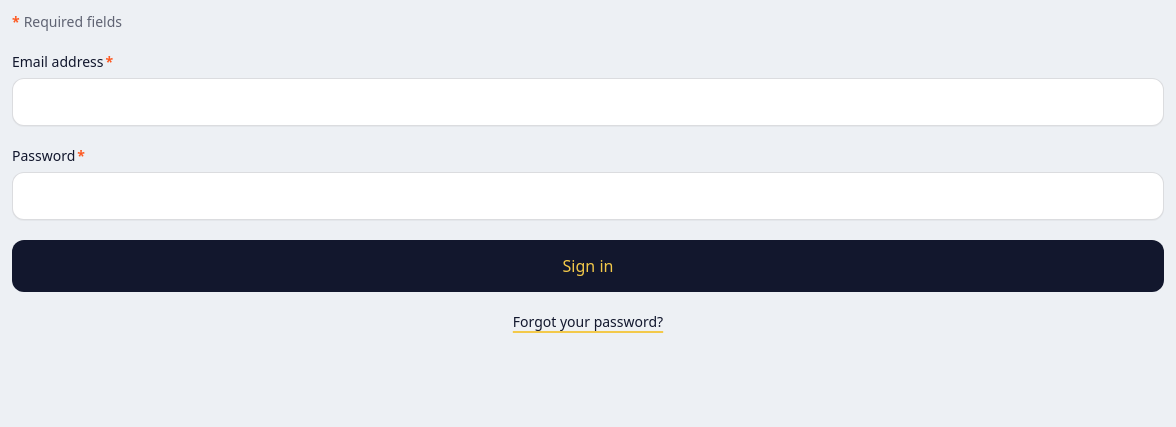
Test: sign in › shows the sign-in failure as a toast and keeps the email
The width and height of the screenshot is (1176, 427).
Type "grace@church.org" into the field labelled "Email address*" at (588, 102), box left=12, top=78, right=1164, bottom=126
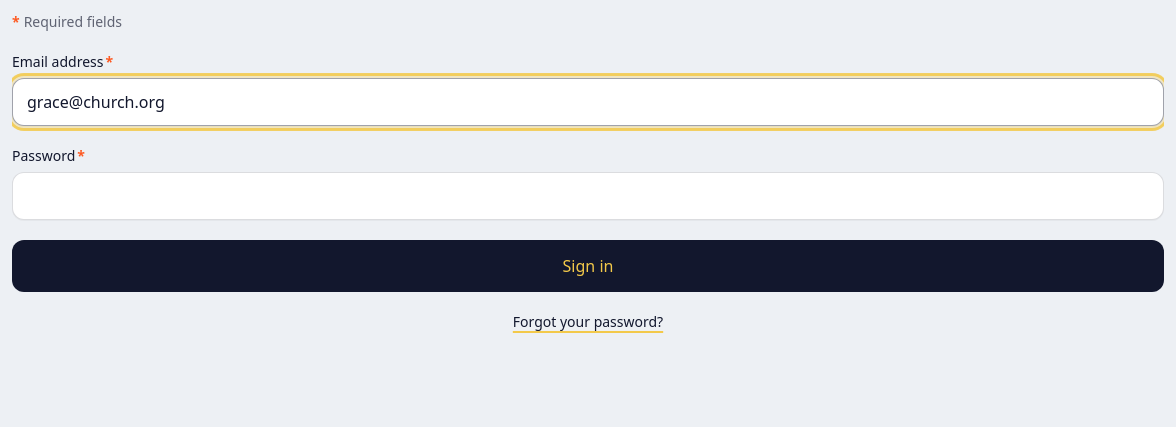
Type "wrong password" into the password field labelled "Password*" at (588, 196), box left=12, top=172, right=1164, bottom=220
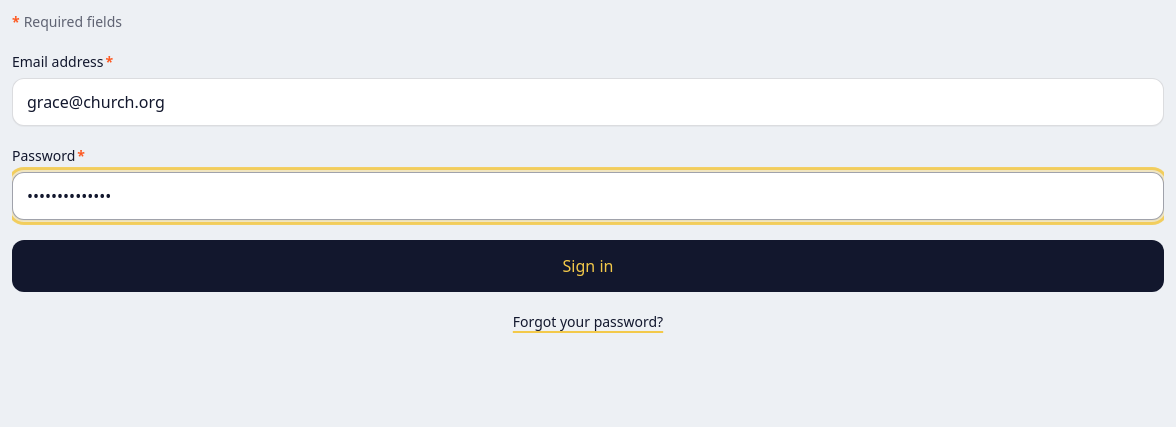
Click the button "Sign in" at (588, 266), box left=12, top=240, right=1164, bottom=292
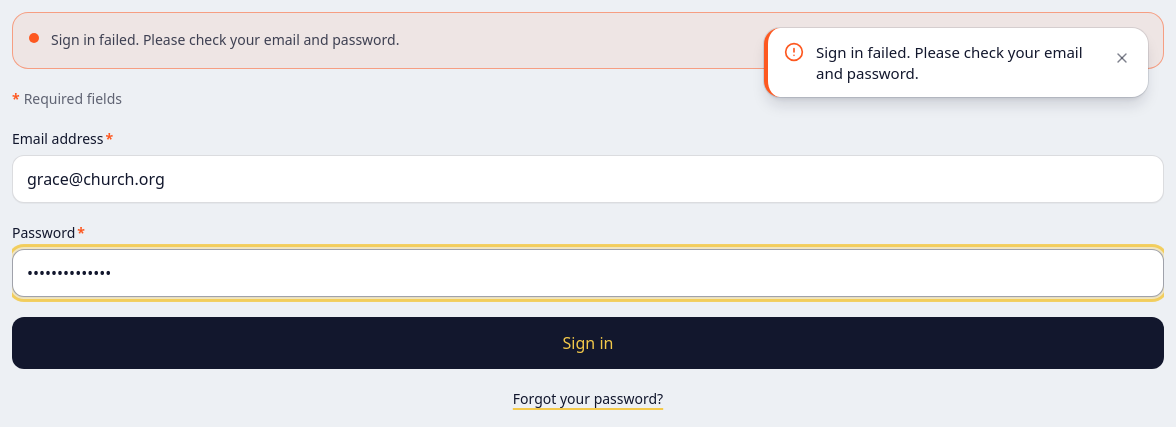
Check: the 2nd text "Sign in failed. Please check your email and password." is shown, box left=816, top=40, right=1092, bottom=85
